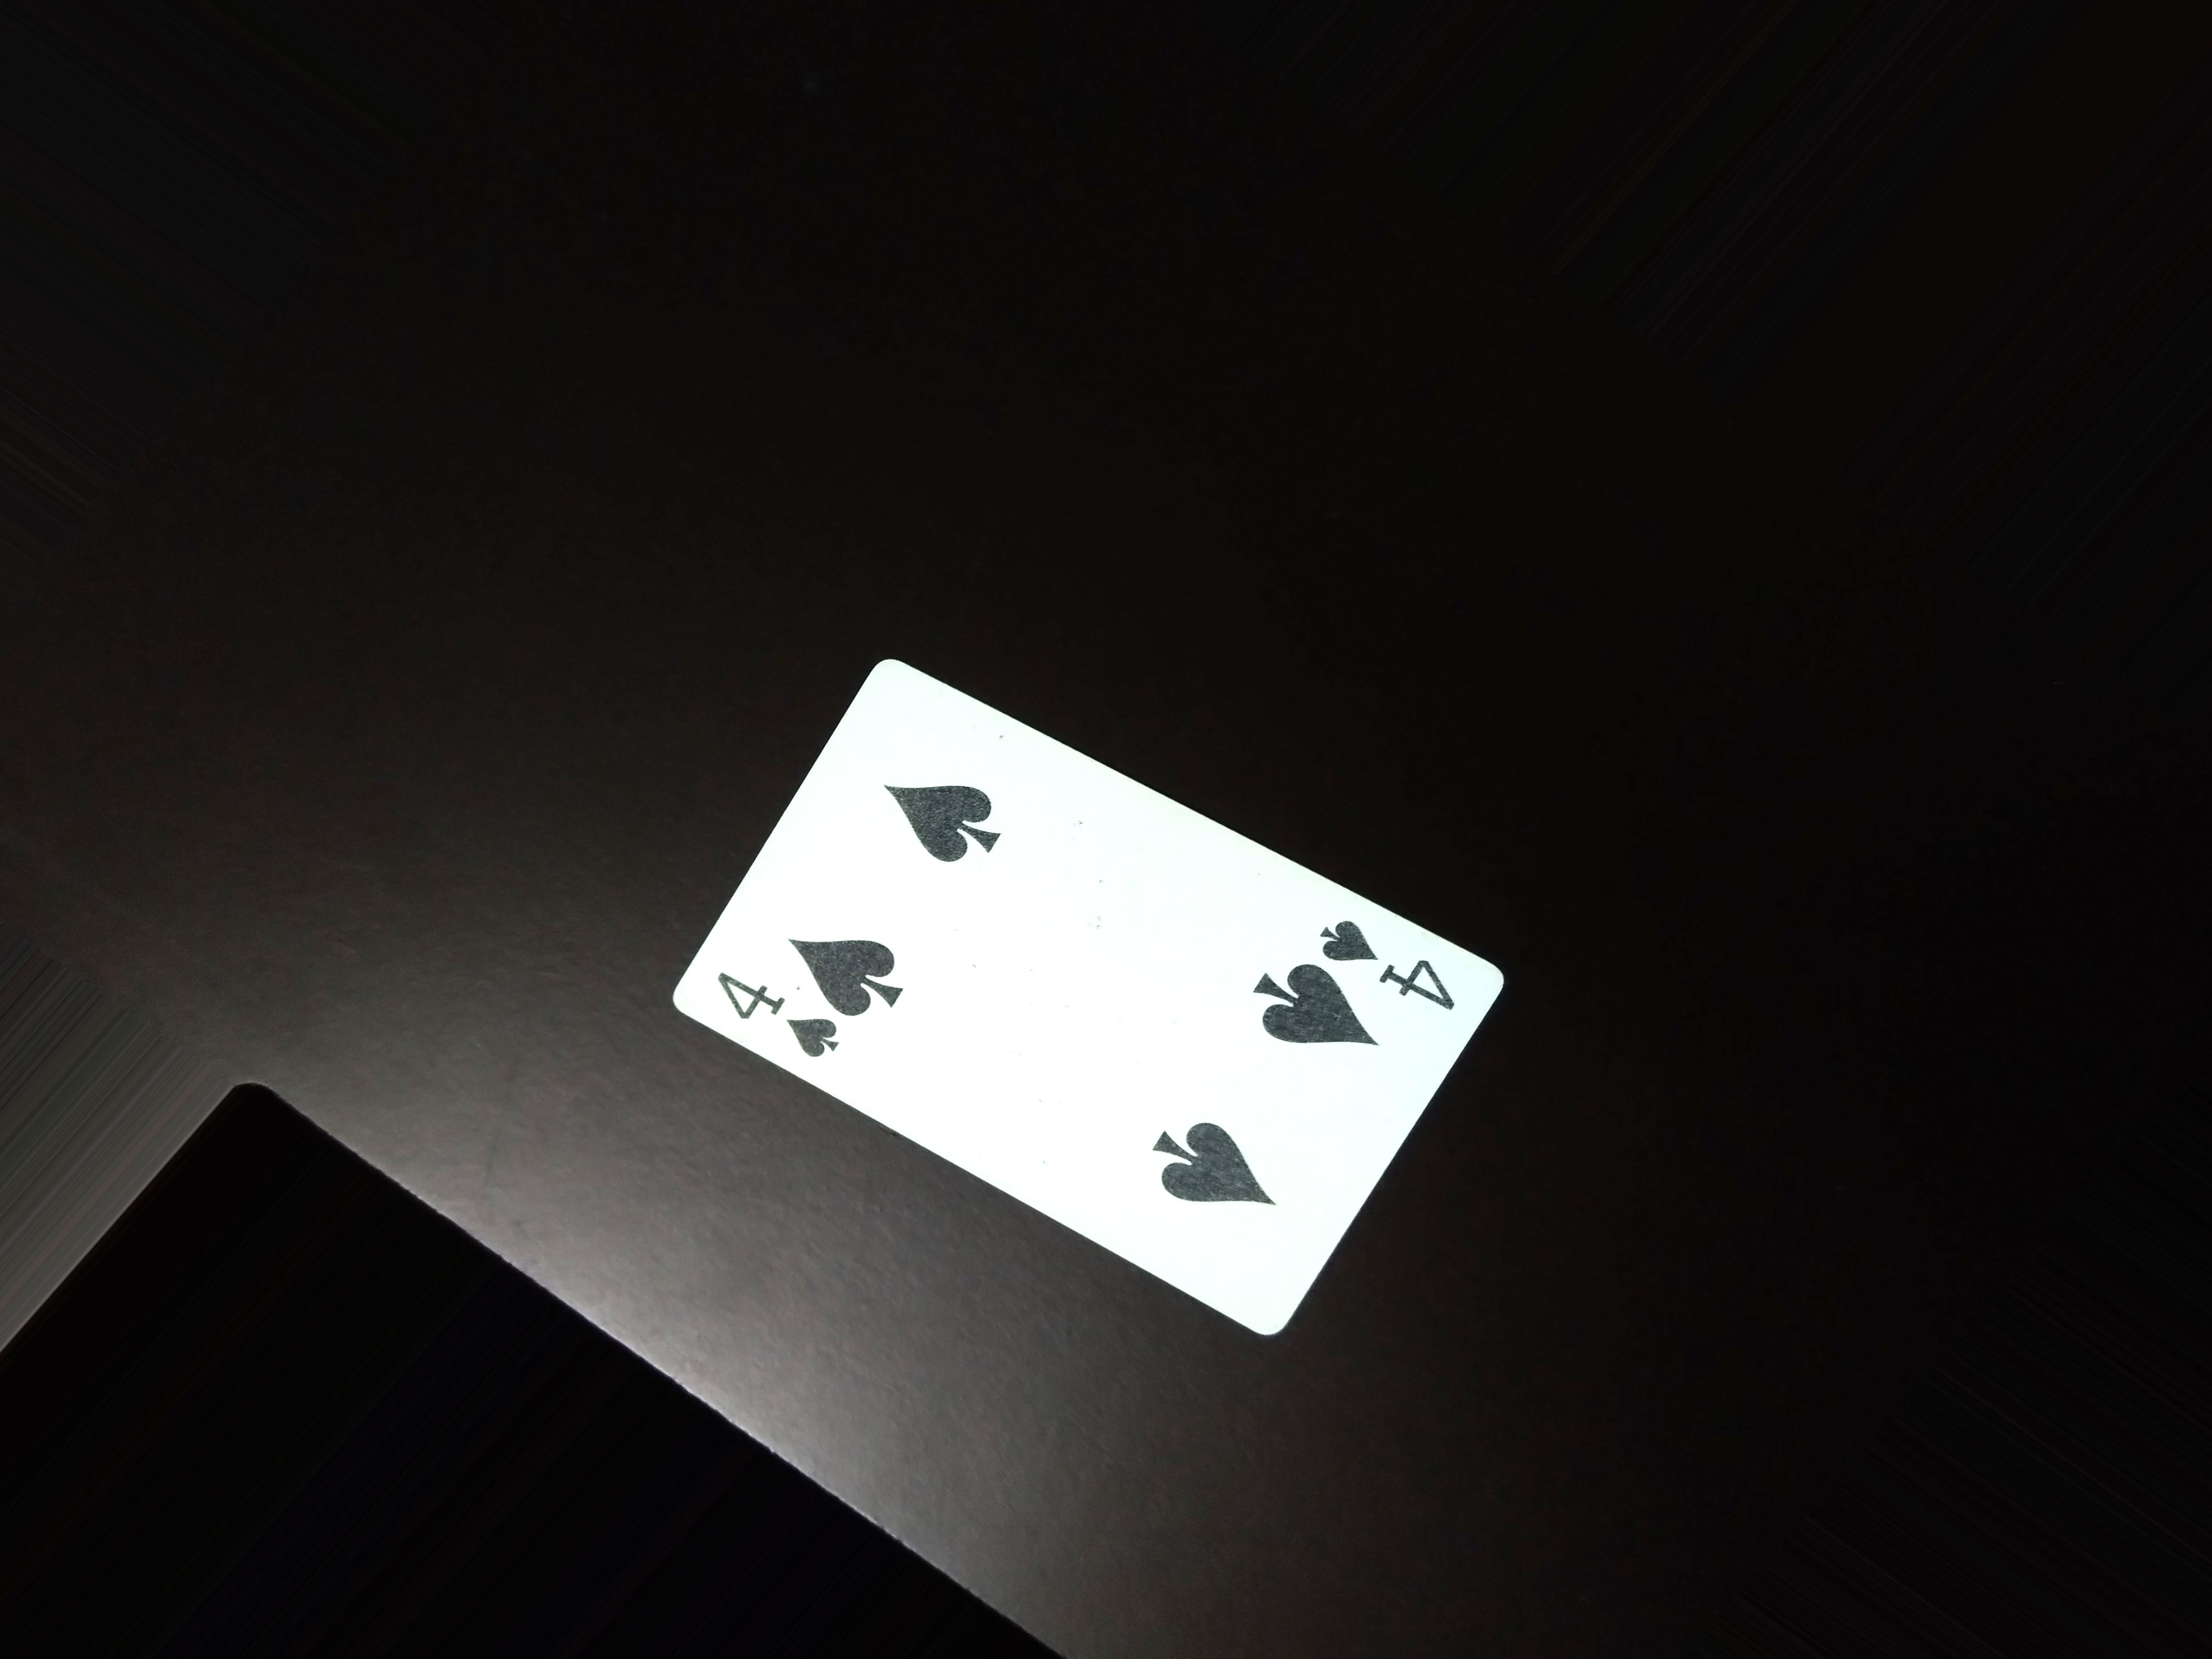4S: (1317, 901, 1480, 1009)
